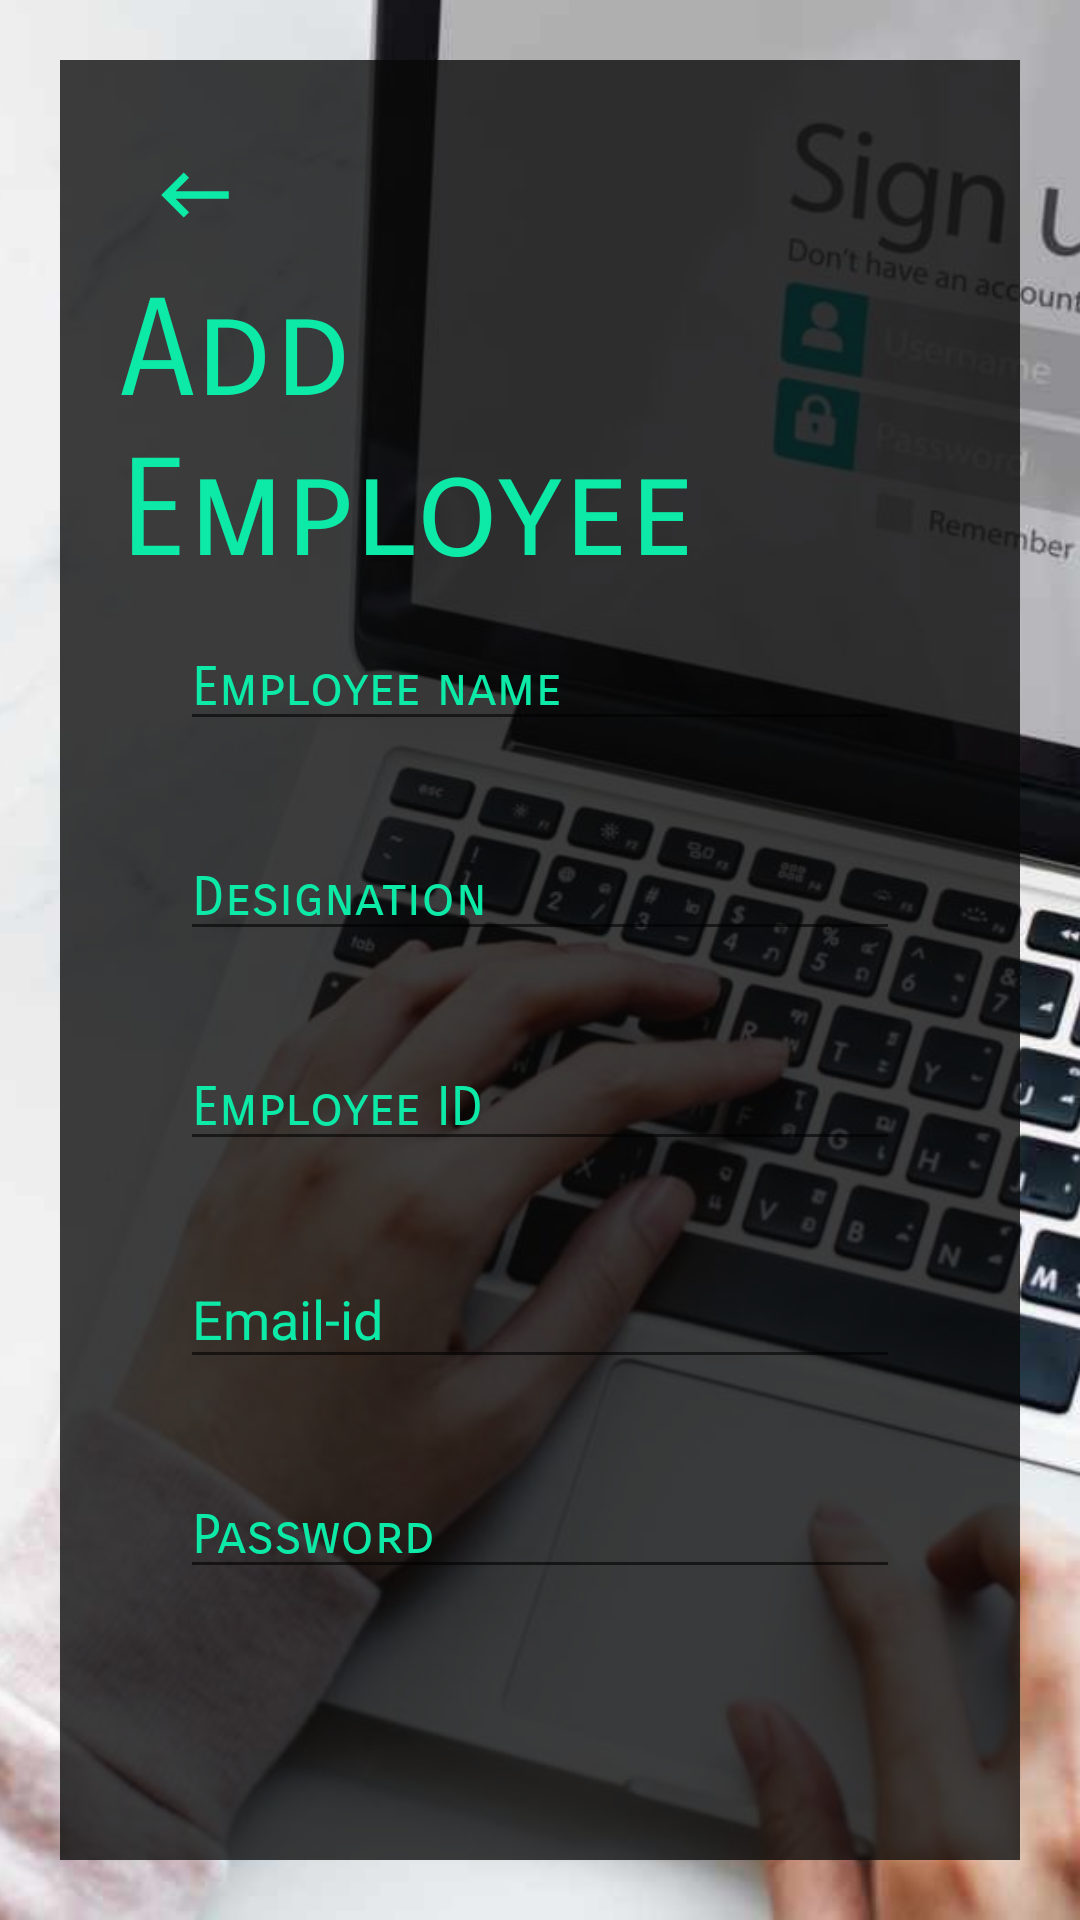

Screen size 1080 × 1920. Icon name, then its box in pixels as (x1, y1, x2, y2):
back: (161, 172, 229, 218)
